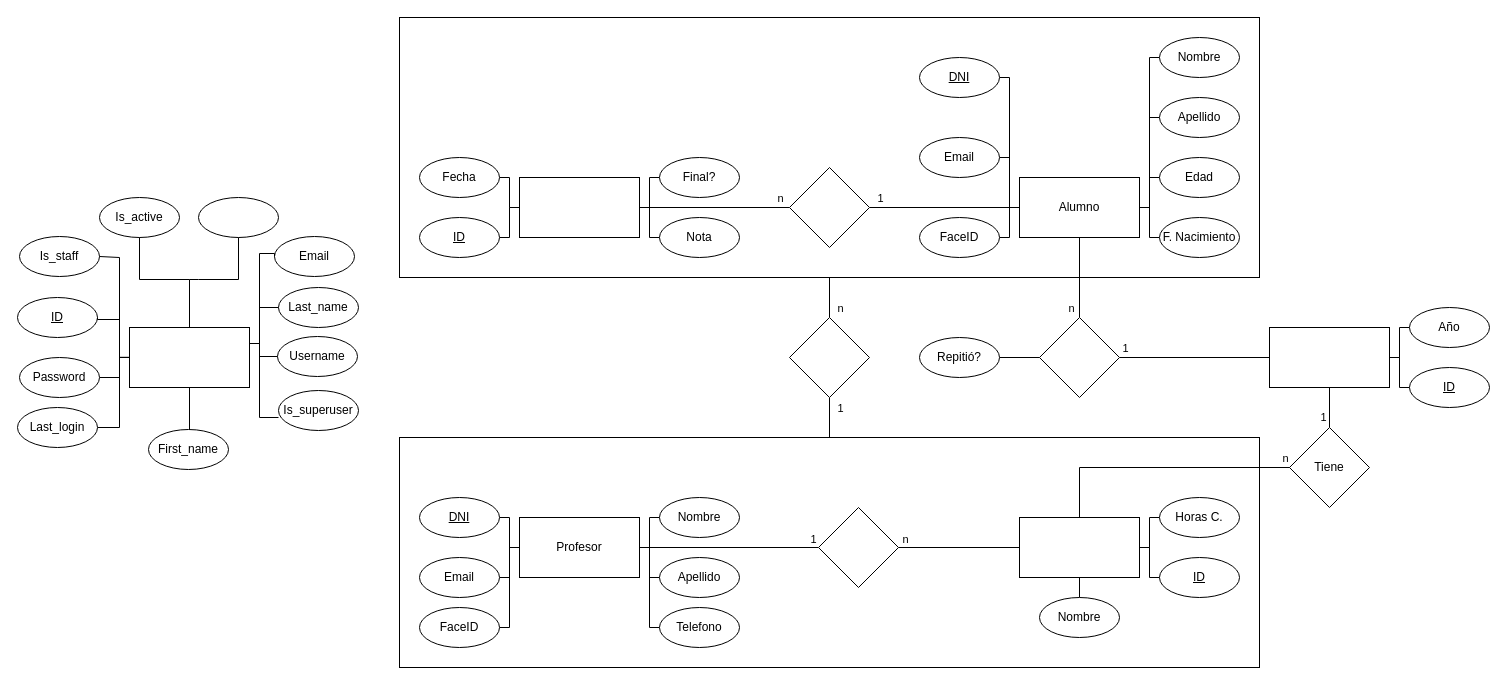
Some shapes in this 1507 by 685 pixel diagram are drawn without their labels. The centre of each missing label's shape, as x and y in pixels:
"Califica" belongs at point 829,357.
"Calificaciones" belongs at point 579,207.
"Curso" belongs at point 1329,357.
"Date_joined" belongs at point 238,217.
"Dicta" belongs at point 858,547.
"Ma teria" belongs at point 1079,547.
"Pertenece" belongs at point 1079,357.
"Tienen" belongs at point 829,207.
"User" belongs at point 189,357.
